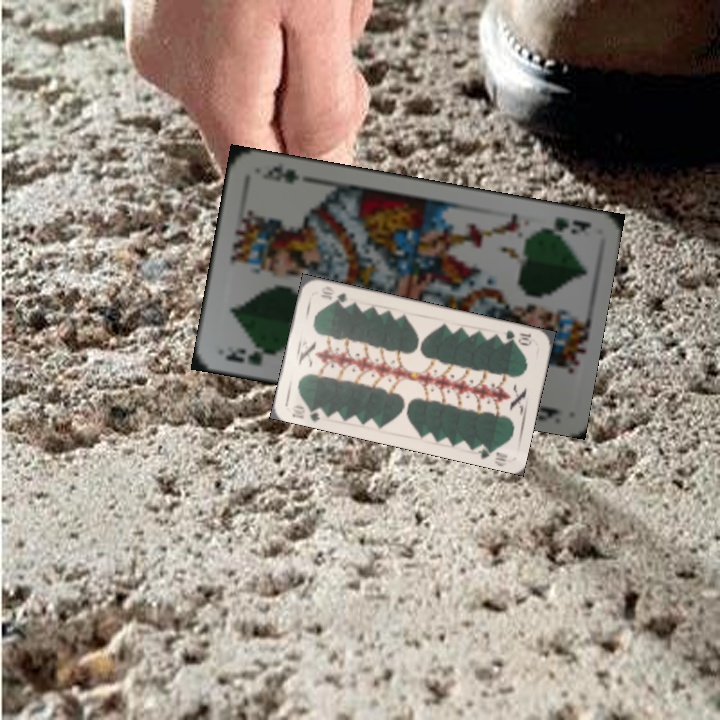G10: (287, 401, 328, 424), (502, 326, 534, 349)
GK: (535, 213, 594, 238), (221, 344, 265, 369)
